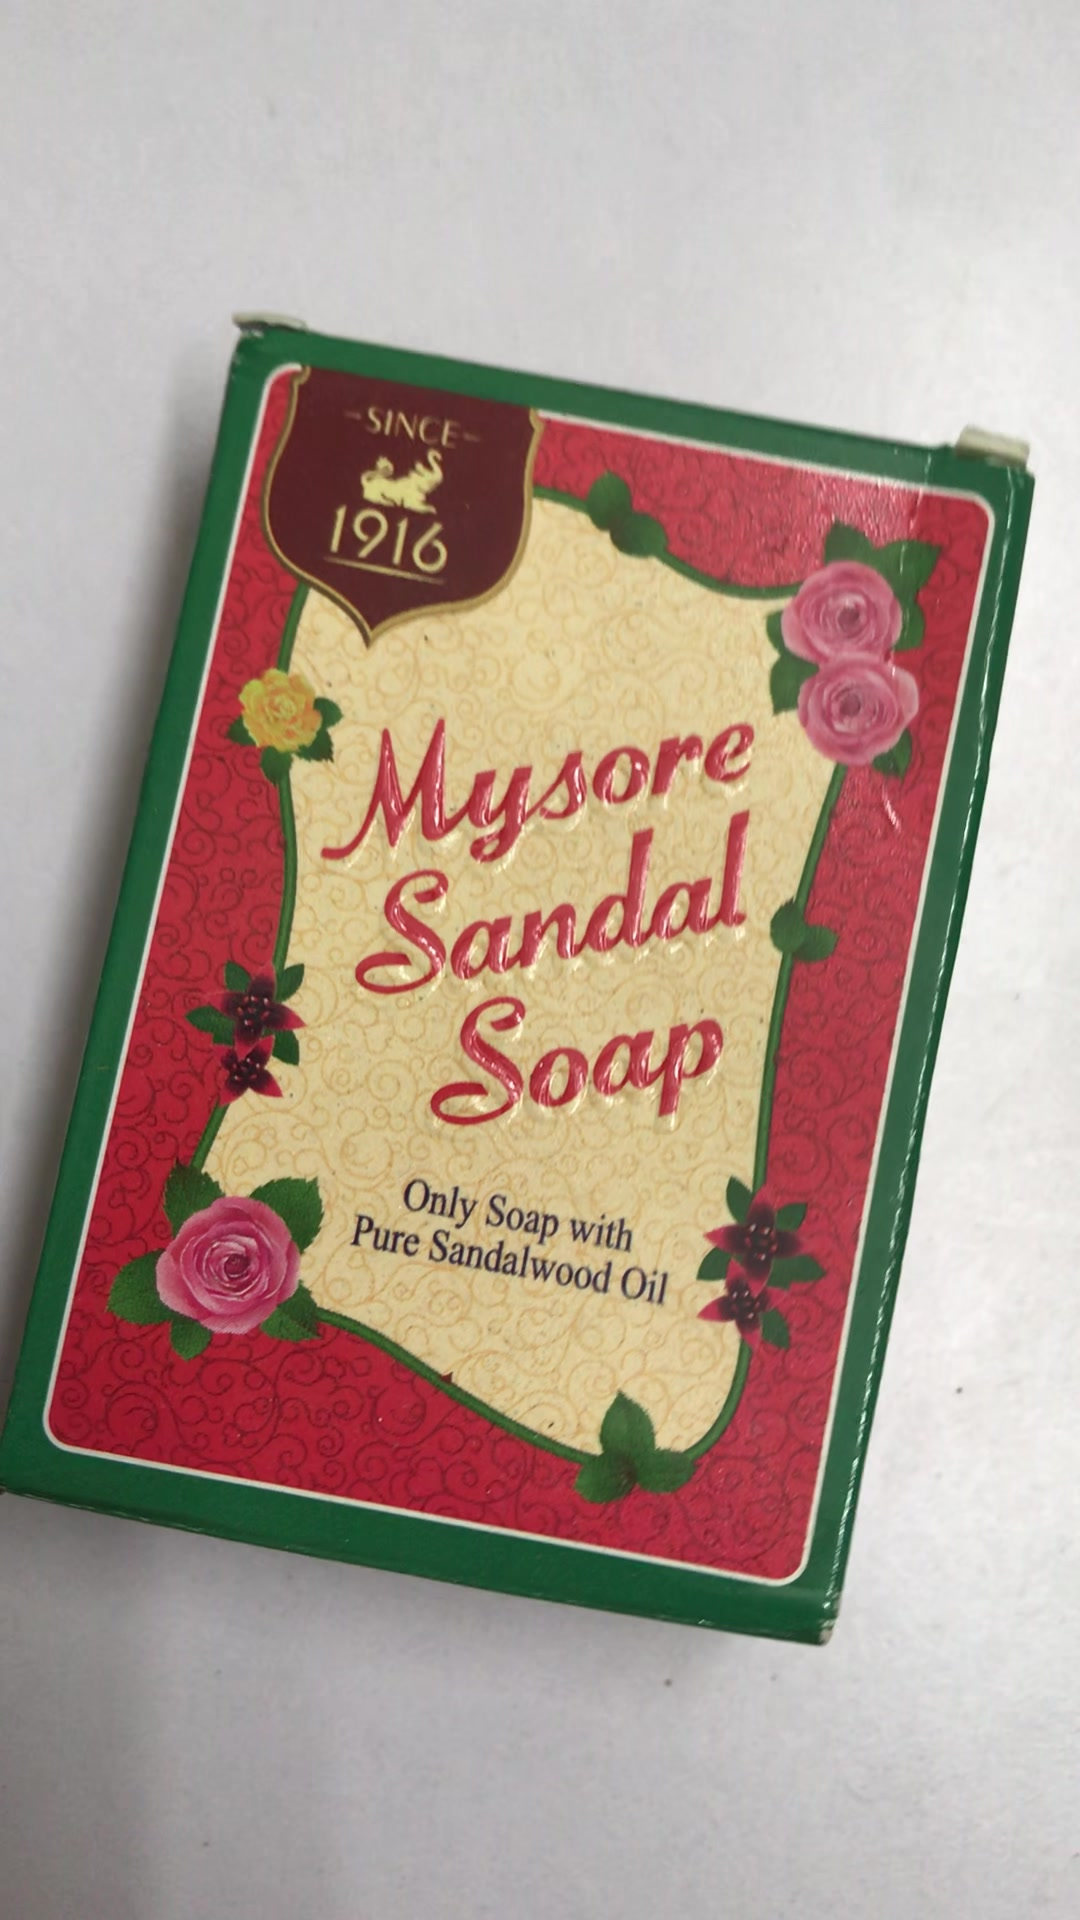mysore sandal soap: (11, 323, 1033, 1650)
